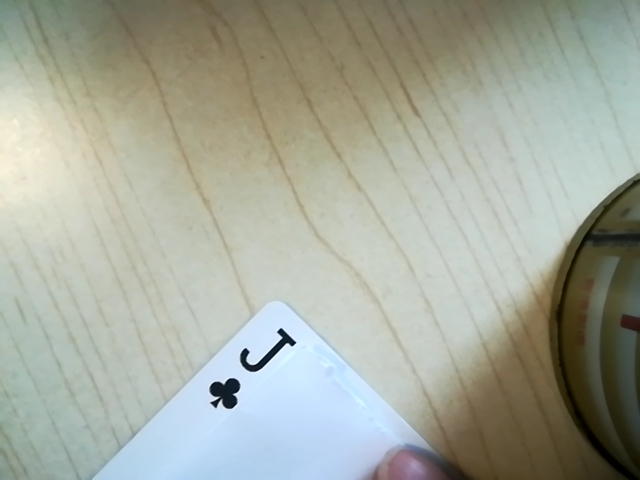mh j: (194, 327, 299, 418)
